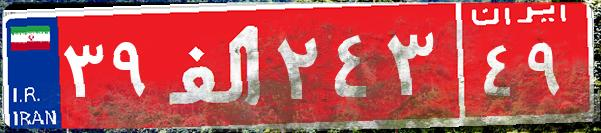2: (273, 28, 330, 110)
3: (385, 28, 445, 110), (57, 26, 110, 107)
4: (330, 28, 385, 110), (475, 38, 525, 113)
9: (110, 28, 158, 105), (525, 38, 570, 115)
الف: (158, 15, 273, 115)
